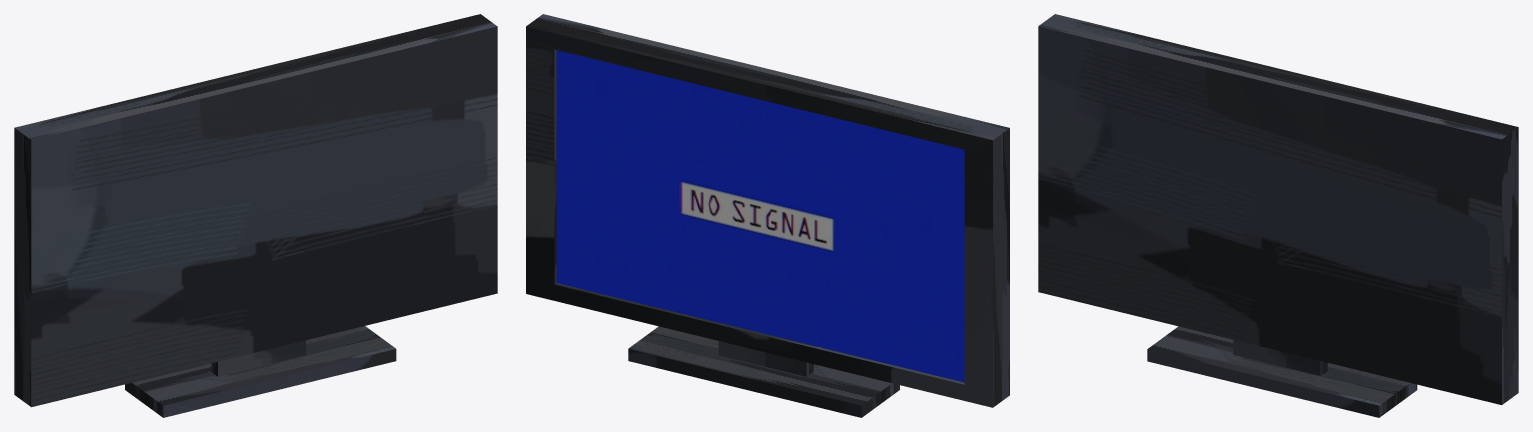
3 views of the same model, side by side, from view 1: azimuth 30°, elevation 25°; view 2: azimuth 150°, elevation 25°; view 3: azimuth 330°, elevation 25° (orthographic).
Parts seen in each view (by area): view 1: Cube; view 2: Cube; view 3: Cube.
Part boxes in pixels (x1=…): Cube: x1=14, y1=14, x2=497, y2=417; Cube: x1=526, y1=14, x2=1009, y2=417; Cube: x1=1038, y1=14, x2=1518, y2=417.
Bounding box in the file's own units: 110 × 15.66 × 67.47.
2 materials, 2 textured.
